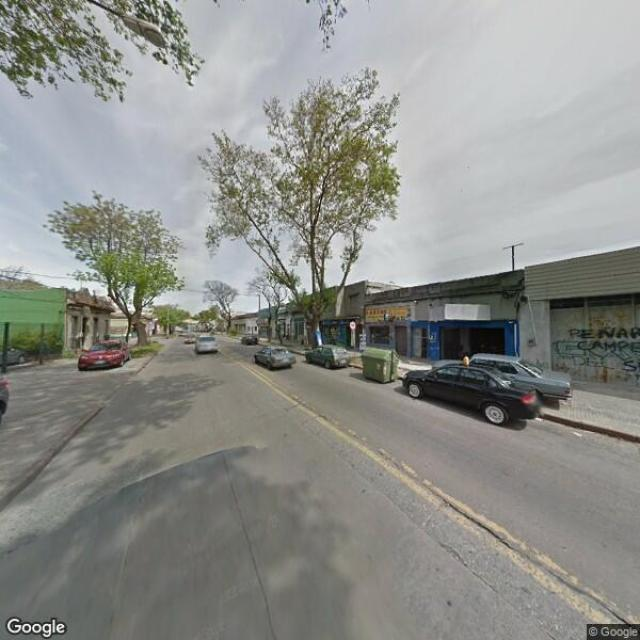garbage container: (357, 340, 407, 389)
